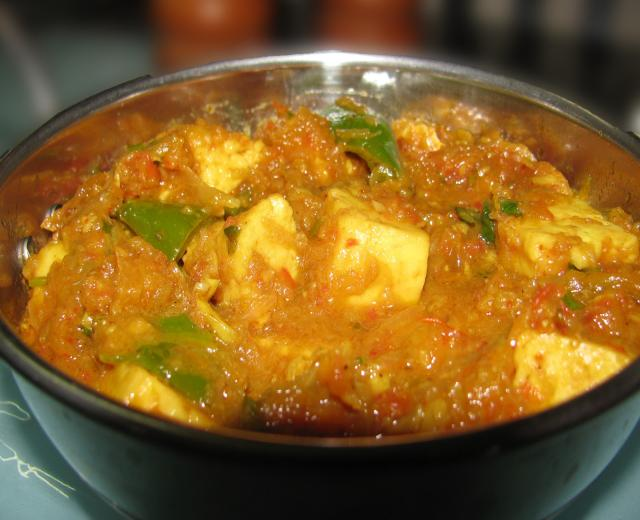kadai paneer: (0, 50, 631, 510), (22, 33, 630, 162), (3, 12, 152, 165), (155, 1, 421, 71), (1, 350, 110, 515)
